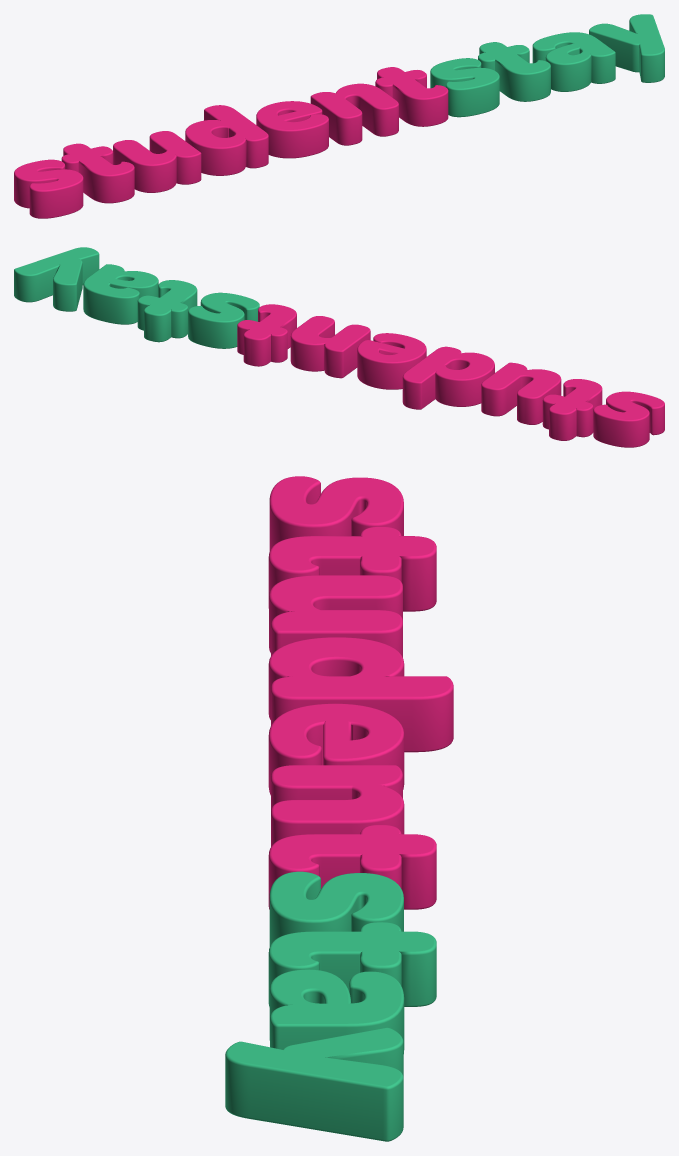
The model's file is studentstay.gltf.
The picture shows the model from 3 angles, top to bottom: view 1: azimuth 30°, elevation 25°; view 2: azimuth 150°, elevation 25°; view 3: azimuth 270°, elevation 25°; orthographic projection. The views are drawn at different scales.
Visible parts, largest first — view 1: Curve, Curve.001; view 2: Curve, Curve.001; view 3: Curve, Curve.001.
Part boxes in pixels (x1,y1,x2,y2): Curve: [14, 67, 448, 218]; Curve.001: [430, 14, 664, 117]; Curve: [237, 304, 664, 447]; Curve.001: [14, 247, 259, 348]; Curve: [268, 476, 453, 909]; Curve.001: [225, 871, 436, 1141].
Size of the model in its own units: 9.55 by 0.4013 by 1.51.
